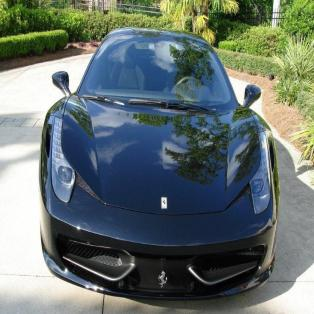Auto: (41, 28, 280, 304)
